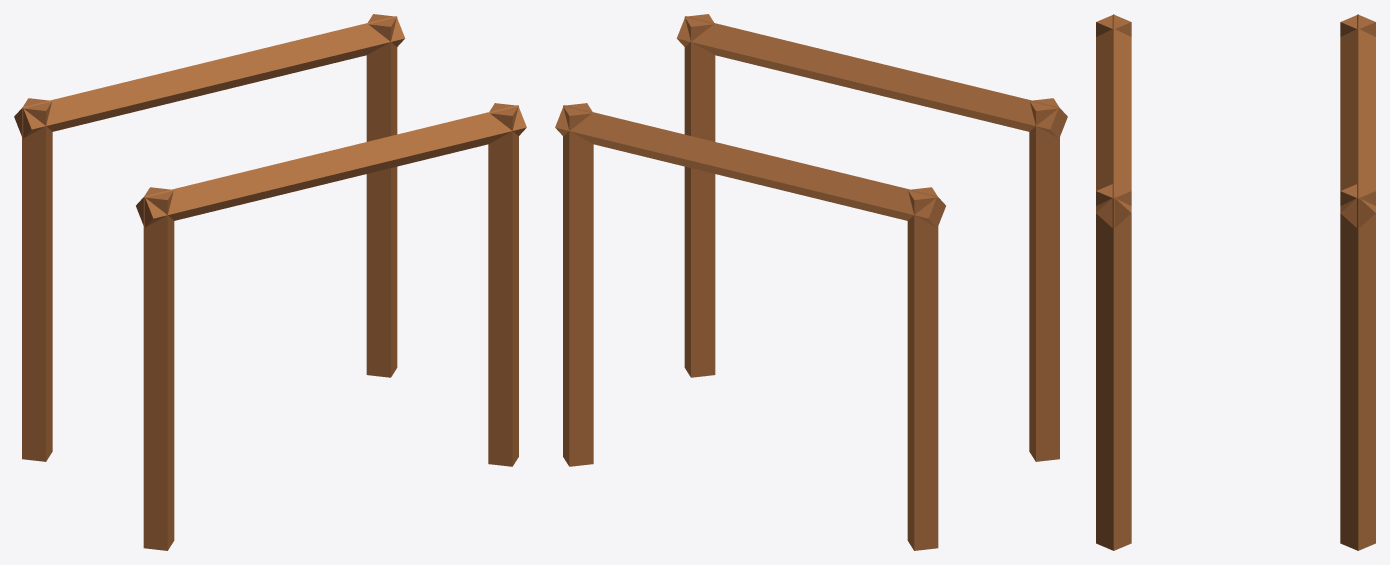
The picture shows the model from 3 angles, left to right: view 1: azimuth 30°, elevation 25°; view 2: azimuth 150°, elevation 25°; view 3: azimuth 270°, elevation 25°; orthographic projection.
Parts seen in each view (by area): view 1: root_pal_woodWarm; view 2: root_pal_woodWarm; view 3: root_pal_woodWarm.
Part boxes in pixels (x1,y1,x2,y2): root_pal_woodWarm: [14, 14, 526, 550]; root_pal_woodWarm: [555, 14, 1067, 550]; root_pal_woodWarm: [1096, 14, 1375, 550].
Size of the model in its own units: 3.92 by 3.51 by 2.52.
